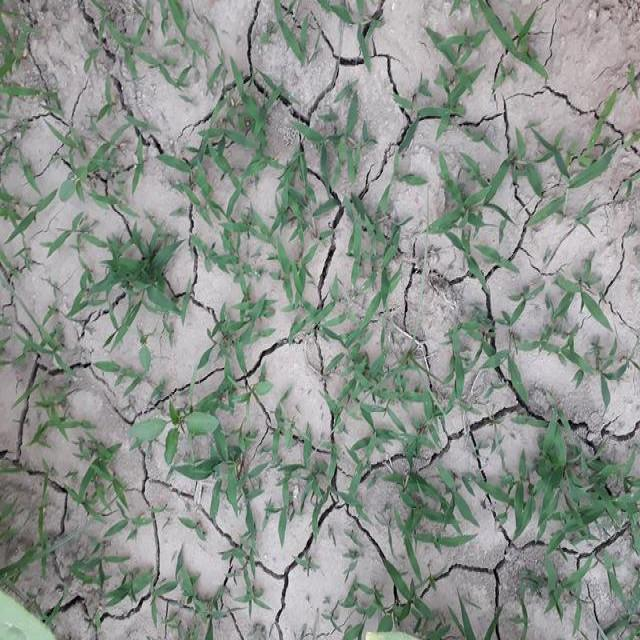weed: (176, 72, 340, 314), (358, 390, 473, 640), (185, 390, 332, 543), (505, 407, 640, 568), (434, 123, 605, 244), (424, 0, 547, 117), (484, 289, 622, 392), (96, 361, 202, 456), (88, 220, 181, 326), (80, 528, 174, 616), (59, 116, 129, 205)
